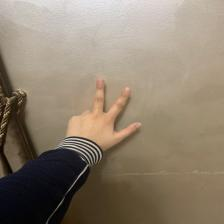three: (61, 76, 147, 156)
